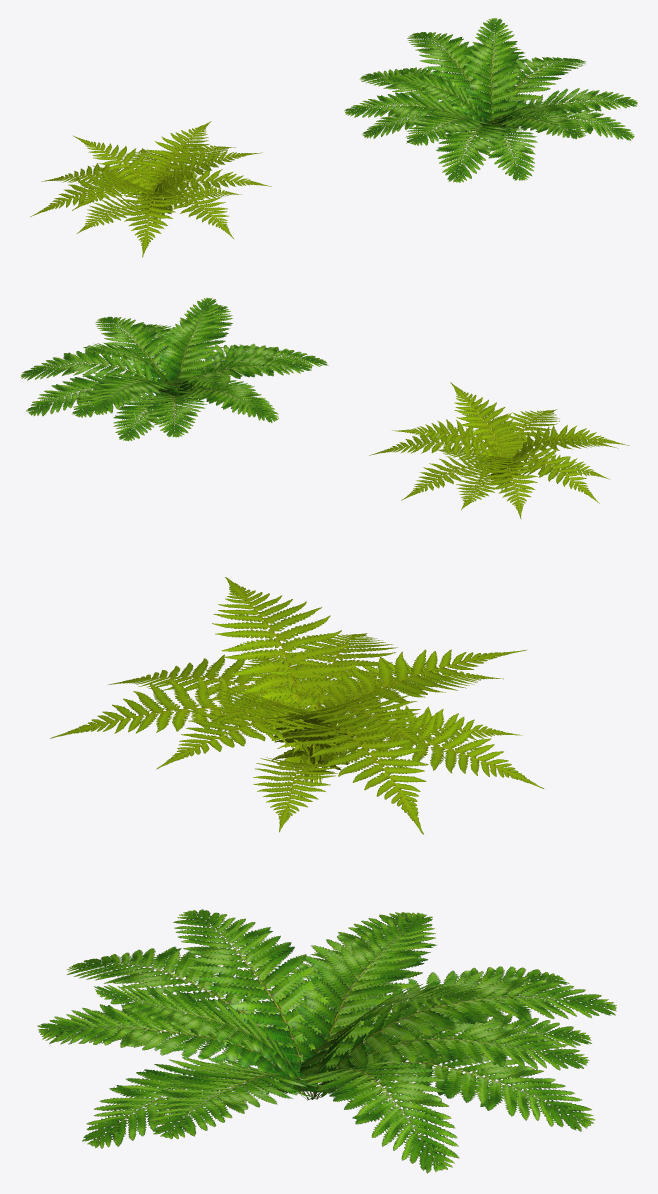
File: Ferns.glb
3 renders of one model, top to bottom at view 1: azimuth 30°, elevation 25°; view 2: azimuth 150°, elevation 25°; view 3: azimuth 270°, elevation 25°, orthographic. The views are drawn at different scales.
Parts seen in each view (by area): view 1: Temperate_Forest_Fern_Cluster, Woodland_Sword_Fern_Modular; view 2: Temperate_Forest_Fern_Cluster, Woodland_Sword_Fern_Modular; view 3: Temperate_Forest_Fern_Cluster, Woodland_Sword_Fern_Modular.
Boxes of the visible parts, x1,y1,x2,y2 form: Temperate_Forest_Fern_Cluster: [344, 18, 637, 182]; Woodland_Sword_Fern_Modular: [30, 121, 271, 257]; Temperate_Forest_Fern_Cluster: [21, 297, 328, 441]; Woodland_Sword_Fern_Modular: [369, 382, 629, 518]; Temperate_Forest_Fern_Cluster: [37, 909, 616, 1173]; Woodland_Sword_Fern_Modular: [50, 577, 544, 834].
Size of the model in its own units: 2.34 by 0.3096 by 1.06.
Materials: 2 (2 with a texture image).
